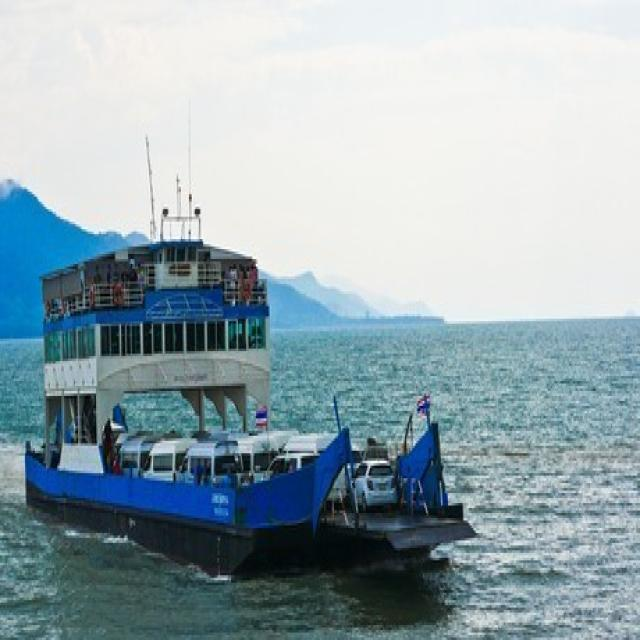cargoship: (41, 140, 467, 533)
